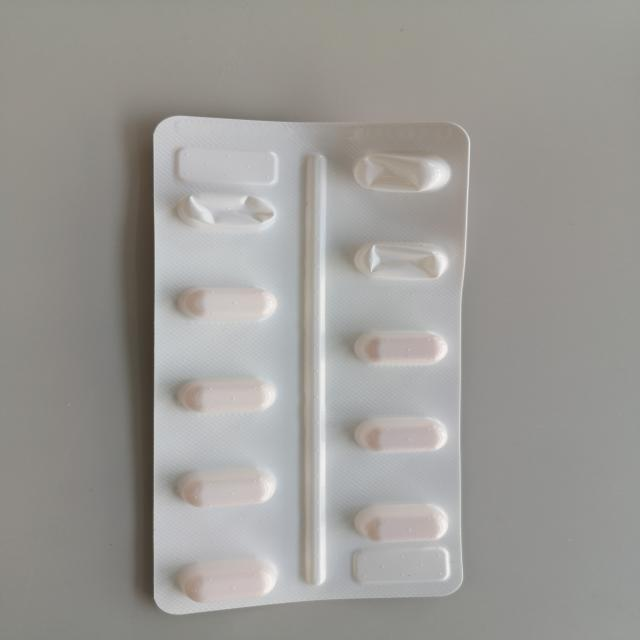Empty: (332, 146, 462, 198), (166, 184, 288, 239), (338, 236, 462, 288)
Pill: (165, 554, 284, 612), (166, 366, 290, 421), (168, 455, 282, 514), (166, 277, 288, 329), (344, 495, 458, 550), (344, 408, 460, 460), (342, 320, 456, 372)
